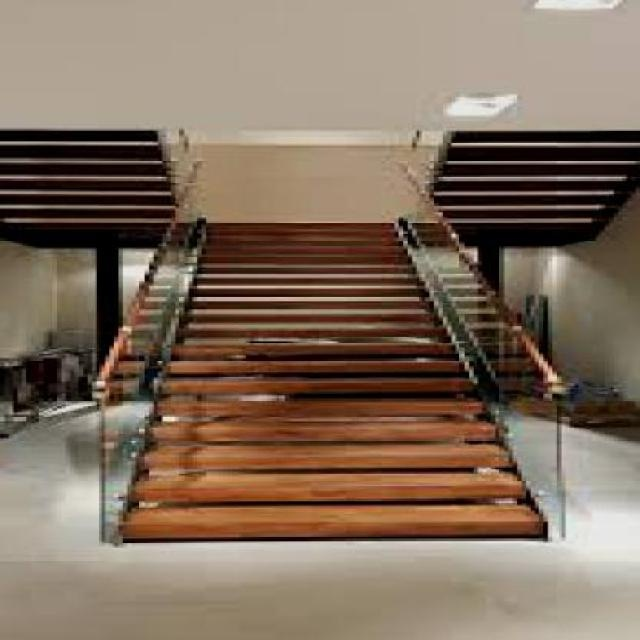stair: (68, 155, 615, 548)
